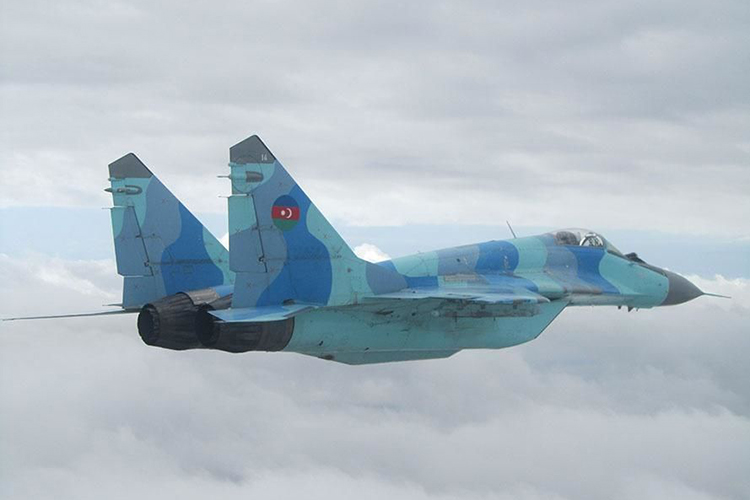Mig-29: (59, 131, 731, 366)
